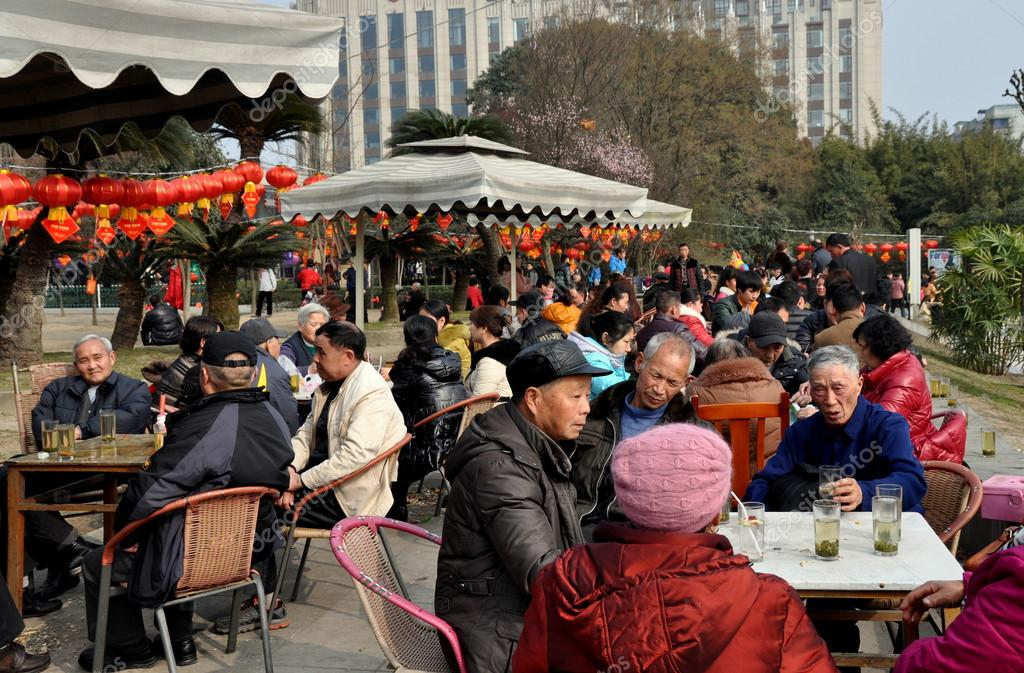Humano: (516, 422, 828, 673), (193, 331, 265, 591), (506, 342, 591, 546), (315, 326, 391, 516), (24, 334, 152, 433), (395, 316, 463, 447), (635, 336, 701, 410), (467, 308, 517, 378), (590, 310, 637, 377), (746, 309, 788, 372), (174, 318, 203, 397), (242, 317, 289, 364), (136, 294, 183, 340), (543, 287, 583, 334), (801, 346, 821, 438), (645, 290, 685, 334), (423, 299, 461, 340), (293, 300, 330, 342), (252, 255, 276, 318), (668, 242, 702, 286), (294, 256, 321, 301), (681, 288, 709, 326), (734, 272, 761, 308), (601, 286, 633, 312), (715, 266, 739, 293), (341, 261, 357, 296), (401, 282, 422, 308), (812, 271, 826, 306), (323, 261, 339, 290), (520, 262, 537, 287), (609, 250, 630, 268), (537, 276, 554, 296)
